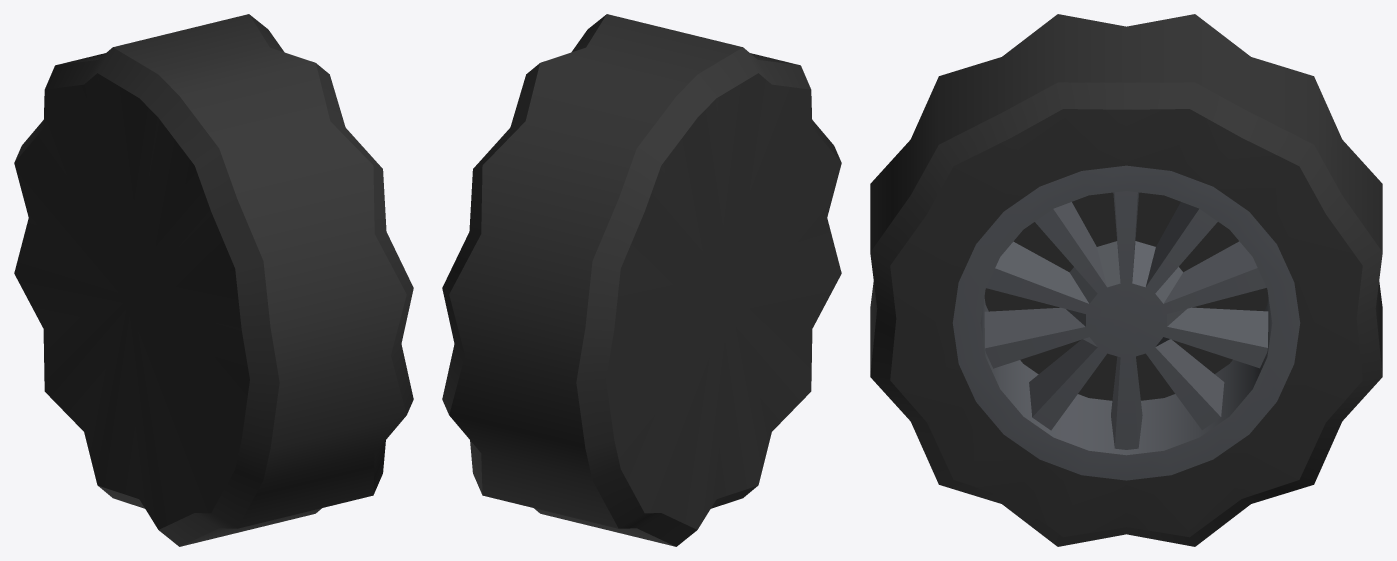
File: tire.fbx
3 views of the same model, side by side, from view 1: azimuth 30°, elevation 25°; view 2: azimuth 150°, elevation 25°; view 3: azimuth 270°, elevation 25° (orthographic). The views are drawn at different scales.
Parts seen in each view (by area): view 1: WHEEL.015; view 2: WHEEL.015; view 3: WHEEL.015.
Boxes of the visible parts, x1,y1,x2,y2 form: WHEEL.015: (14, 14, 413, 546); WHEEL.015: (442, 14, 841, 546); WHEEL.015: (870, 14, 1382, 546).
Bounding box in the file's own units: 24.95 × 62.81 × 62.81.
1 material, 1 textured.
